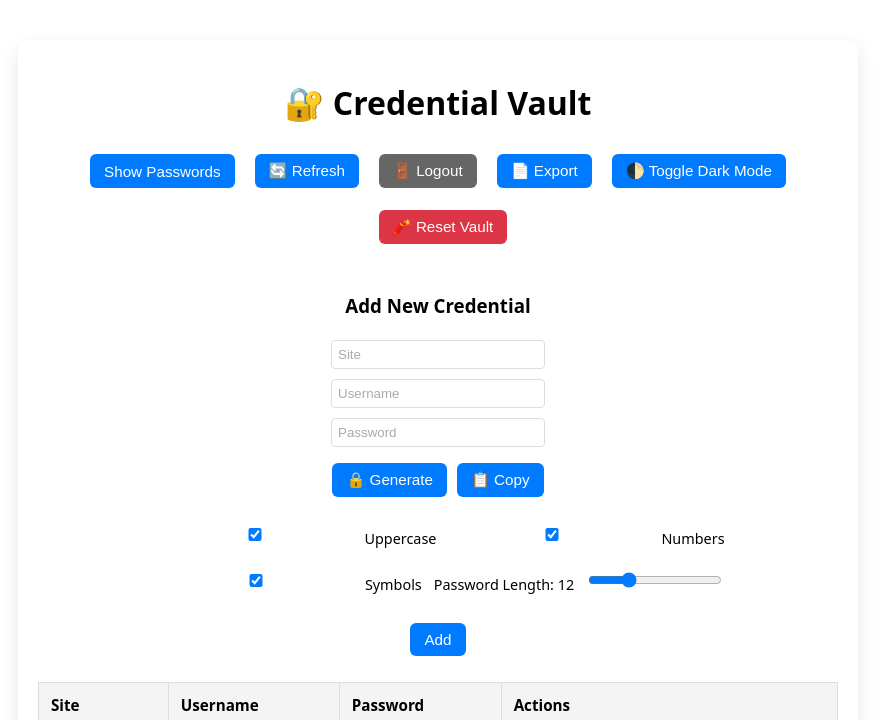
Test: Vault component › toggles password visibility
The image size is (877, 720).
What coordinates should you click on to do the following:
click the button "Show Passwords"
I would click on:
 (162, 171)
Its box is 90,154 -> 235,188.
(page scrolled)
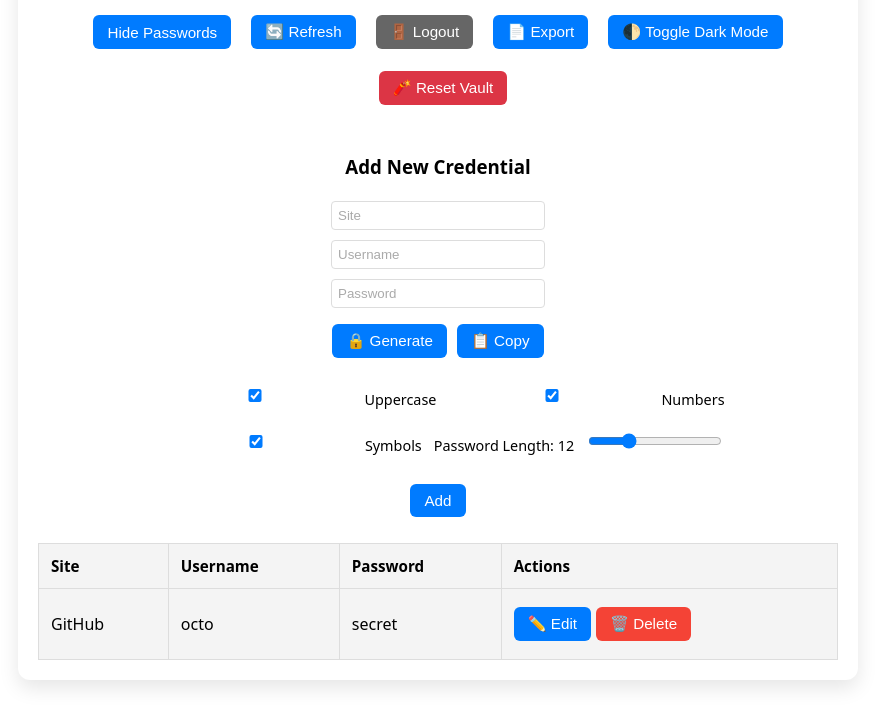
Result: the text "secret" is shown at 339,589 -> 501,660
